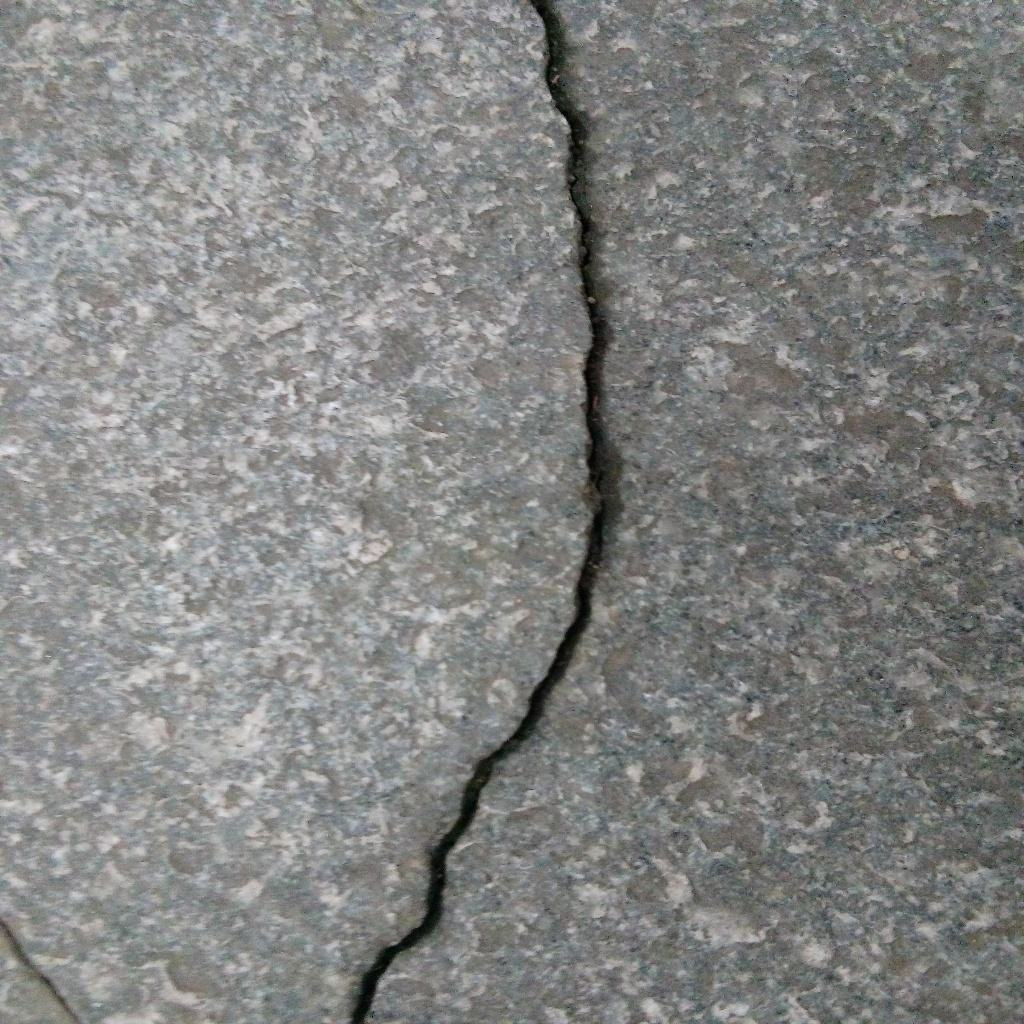Crack: (349, 1, 621, 1024)
